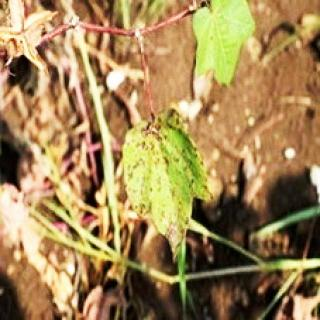leaf spot: (114, 121, 214, 257)
